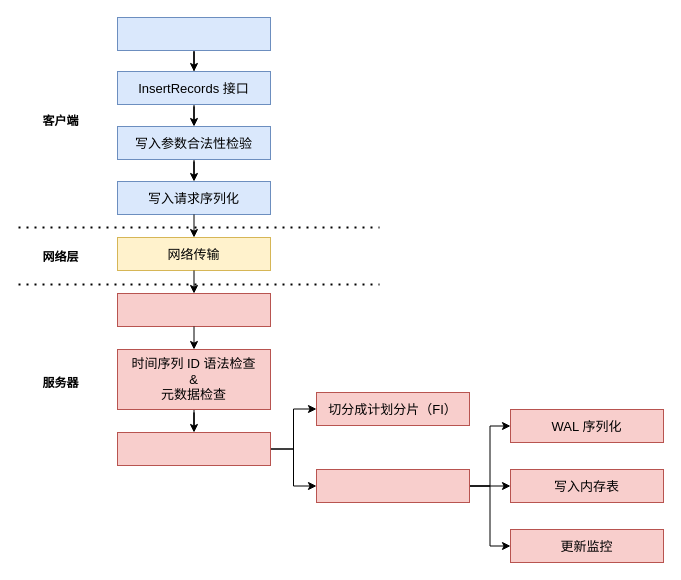
Image size: 681x580. Some labels were removed from this diagram. Here are the shapes that lost their labels. From the top down, the centre of each, then its label:
At (193,33): "用户应用程序".
At (193,309): "写入请求反序列化".
At (193,449): "存储引擎执行".
At (393,485): "FI 写入 DataRegion".
